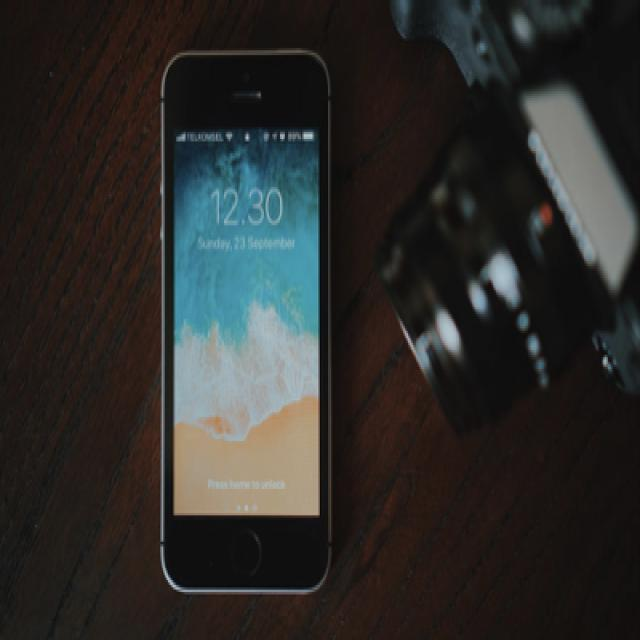cellphone: (158, 46, 333, 594)
